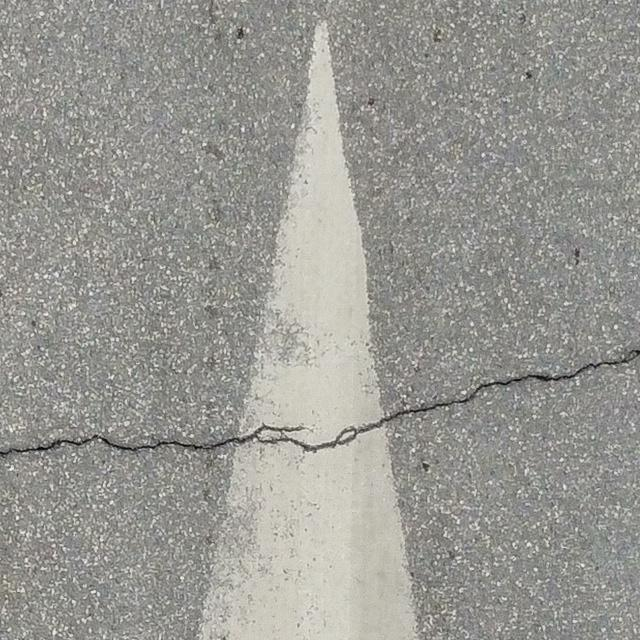TransverseCrack: (1, 351, 640, 456)
